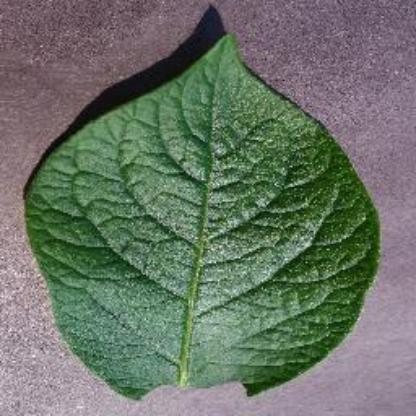Healthy-plant: (21, 29, 381, 415)
